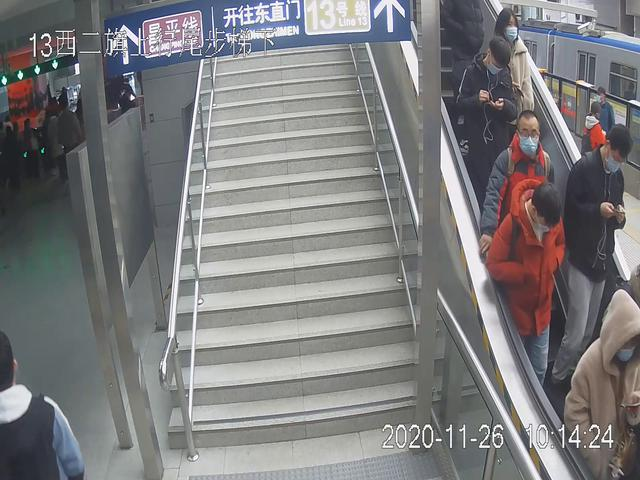person: (553, 121, 634, 393), (484, 174, 568, 412), (455, 37, 523, 209)
